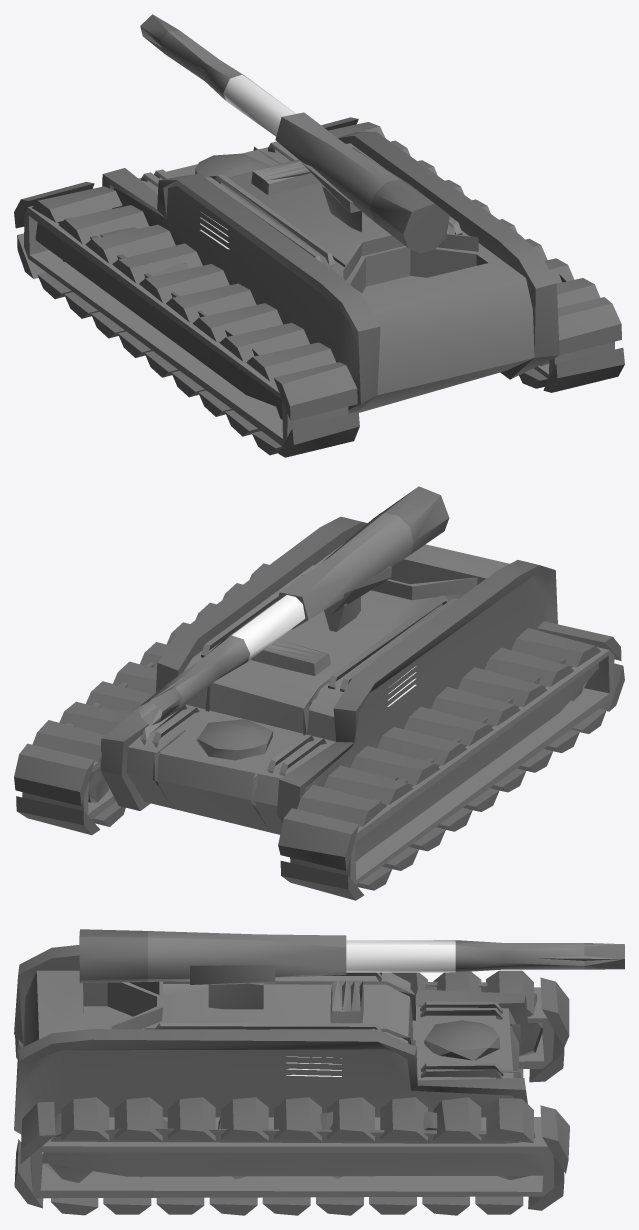
Rendered from amber_tank.glb.
3 renders of one model, top to bottom at view 1: azimuth 30°, elevation 25°; view 2: azimuth 150°, elevation 25°; view 3: azimuth 270°, elevation 25°, orthographic.
Parts seen in each view (by area): view 1: Body, Barrel, Turret; view 2: Body, Barrel, Turret; view 3: Body, Barrel, Turret.
Boxes of the visible parts, x1,y1,x2,y2 form: Body: [14, 117, 624, 457]; Barrel: [140, 14, 449, 253]; Turret: [301, 147, 369, 232]; Body: [14, 516, 624, 900]; Barrel: [139, 486, 449, 725]; Turret: [302, 543, 391, 631]; Body: [14, 945, 569, 1215]; Barrel: [79, 929, 624, 983]; Turret: [190, 965, 275, 1009].
Bounding box in the file's own units: 5.25 × 3.11 × 8.47.
Materials: 2 (1 with a texture image).
